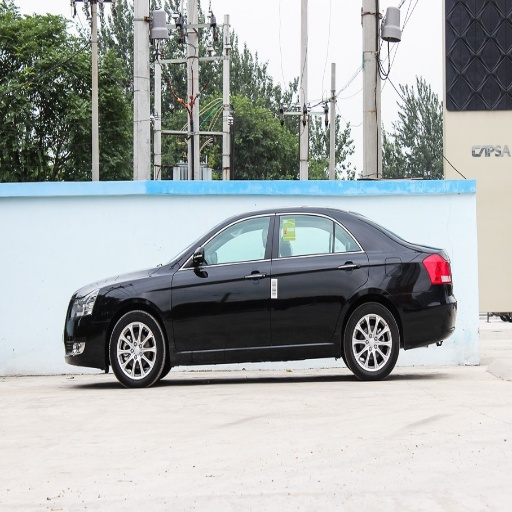back_left_door: (273, 210, 367, 346)
front_left_door: (172, 211, 274, 359)
